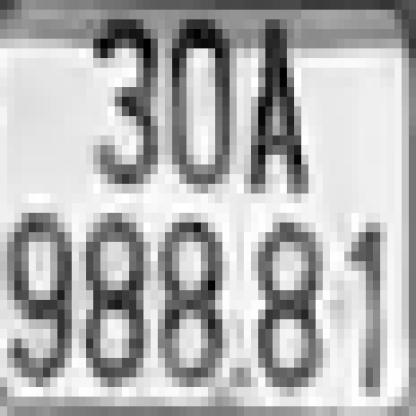0: (165, 19, 222, 193)
1: (330, 213, 387, 387)
3: (93, 19, 158, 193)
8: (244, 213, 315, 387), (86, 203, 144, 377), (158, 213, 215, 377)
9: (7, 203, 72, 377)
A: (237, 19, 301, 193)
